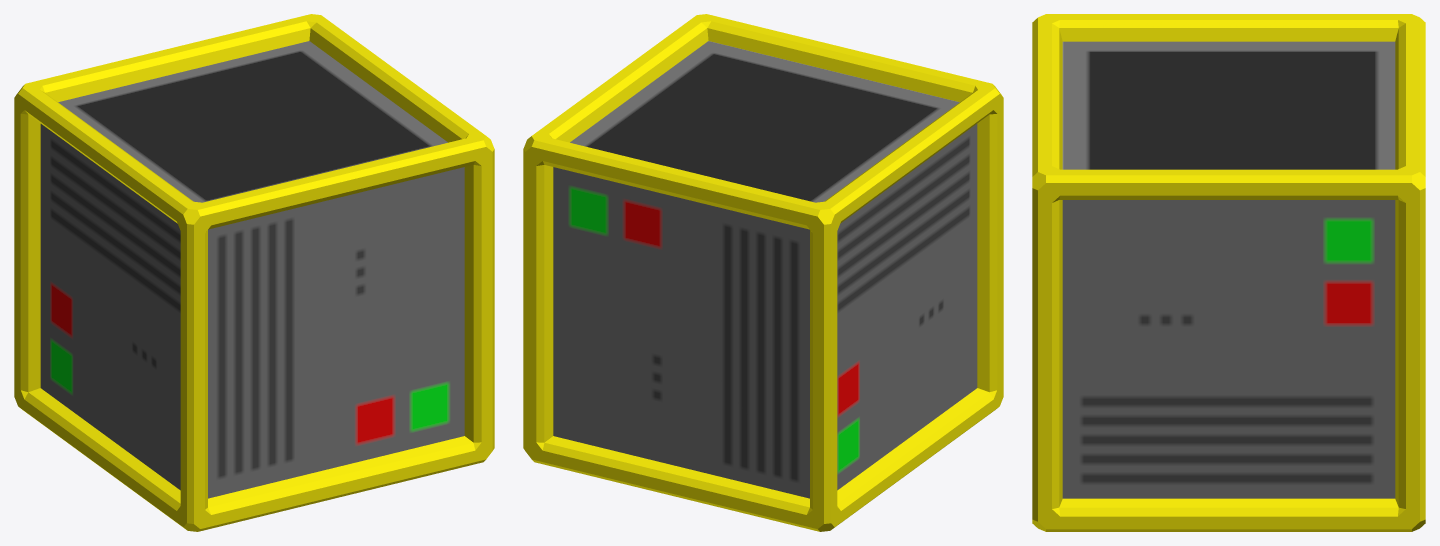
File: YellowCube.fbx
The picture shows the model from 3 angles, left to right: view 1: azimuth 30°, elevation 25°; view 2: azimuth 150°, elevation 25°; view 3: azimuth 270°, elevation 25°; orthographic projection. The views are drawn at different scales.
Parts seen in each view (by area): view 1: Cube; view 2: Cube; view 3: Cube.
Boxes of the visible parts, x1=… form: Cube: x1=14, y1=14, x2=494, y2=531; Cube: x1=523, y1=14, x2=1003, y2=531; Cube: x1=1032, y1=14, x2=1425, y2=531.
Size of the model in its own units: 200 by 200 by 200.
